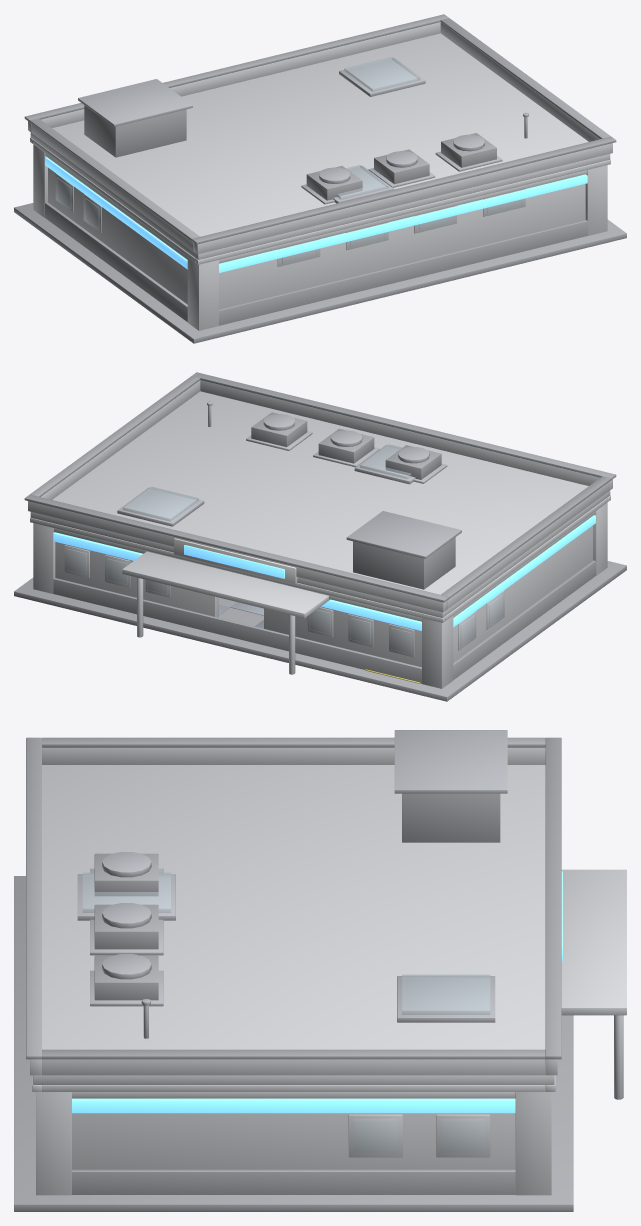
Rendered from th23_polizeiwache.glb.
The picture shows the model from 3 angles, top to bottom: view 1: azimuth 30°, elevation 25°; view 2: azimuth 150°, elevation 25°; view 3: azimuth 270°, elevation 25°; orthographic projection. The views are drawn at different scales.
Parts seen in each view (by area): view 1: Cube.043, Cube.040, Cube, Cube.048, Cube.060, Cube.041, Cube.061, Cube.097, Cube.277, Cube.064, Cube.278, Cube.050 (+22 smaller); view 2: Cube.043, Cube, Cube.049, Cube.102, Cube.060, Cube.041, Cube.061, Cube.277, Cube.065, Cube.064, Cube.278, Cube.037 (+32 smaller); view 3: Cube.043, Cube.042, Cube, Cube.051, Cube.102, Cube.063, Cube.278, Cube.099, Cube.062, Cube.067, Cube.065, Cube.064 (+23 smaller).
Boxes of the visible parts, box(x1,y1,x2,y2) form: Cube.043: box(30, 33, 610, 259); Cube.040: box(219, 184, 585, 309); Cube: box(14, 203, 626, 343); Cube.048: box(219, 220, 587, 325); Cube.060: box(194, 143, 612, 254); Cube.041: box(48, 167, 187, 304); Cube.061: box(28, 22, 440, 132); Cube.097: box(219, 174, 587, 272); Cube.277: box(84, 105, 186, 157); Cube.064: box(191, 136, 616, 244); Cube.278: box(78, 79, 192, 126); Cube.050: box(45, 202, 187, 321); Cube.043: box(30, 391, 610, 617); Cube: box(14, 561, 626, 701); Cube.049: box(53, 578, 421, 683); Cube.102: box(122, 551, 330, 618); Cube.060: box(200, 380, 612, 490); Cube.041: box(453, 525, 592, 662); Cube.061: box(28, 501, 446, 612); Cube.277: box(353, 537, 455, 589); Cube.065: box(24, 494, 449, 602); Cube.064: box(192, 372, 616, 479); Cube.278: box(346, 511, 461, 558); Cube.037: box(264, 606, 421, 667); Cube.043: box(33, 765, 554, 1084); Cube.042: box(72, 1098, 515, 1169); Cube: box(14, 876, 573, 1211); Cube.051: box(72, 1169, 515, 1194); Cube.102: box(561, 869, 626, 1015); Cube.063: box(42, 1059, 545, 1075); Cube.278: box(394, 730, 507, 793); Cube.099: box(72, 1098, 515, 1113); Cube.062: box(42, 747, 545, 764); Cube.067: box(42, 1049, 545, 1059); Cube.065: box(545, 737, 561, 1059); Cube.064: box(26, 737, 41, 1059).
Bounding box in the file's own units: 28.5 × 7.5 × 22.45.
